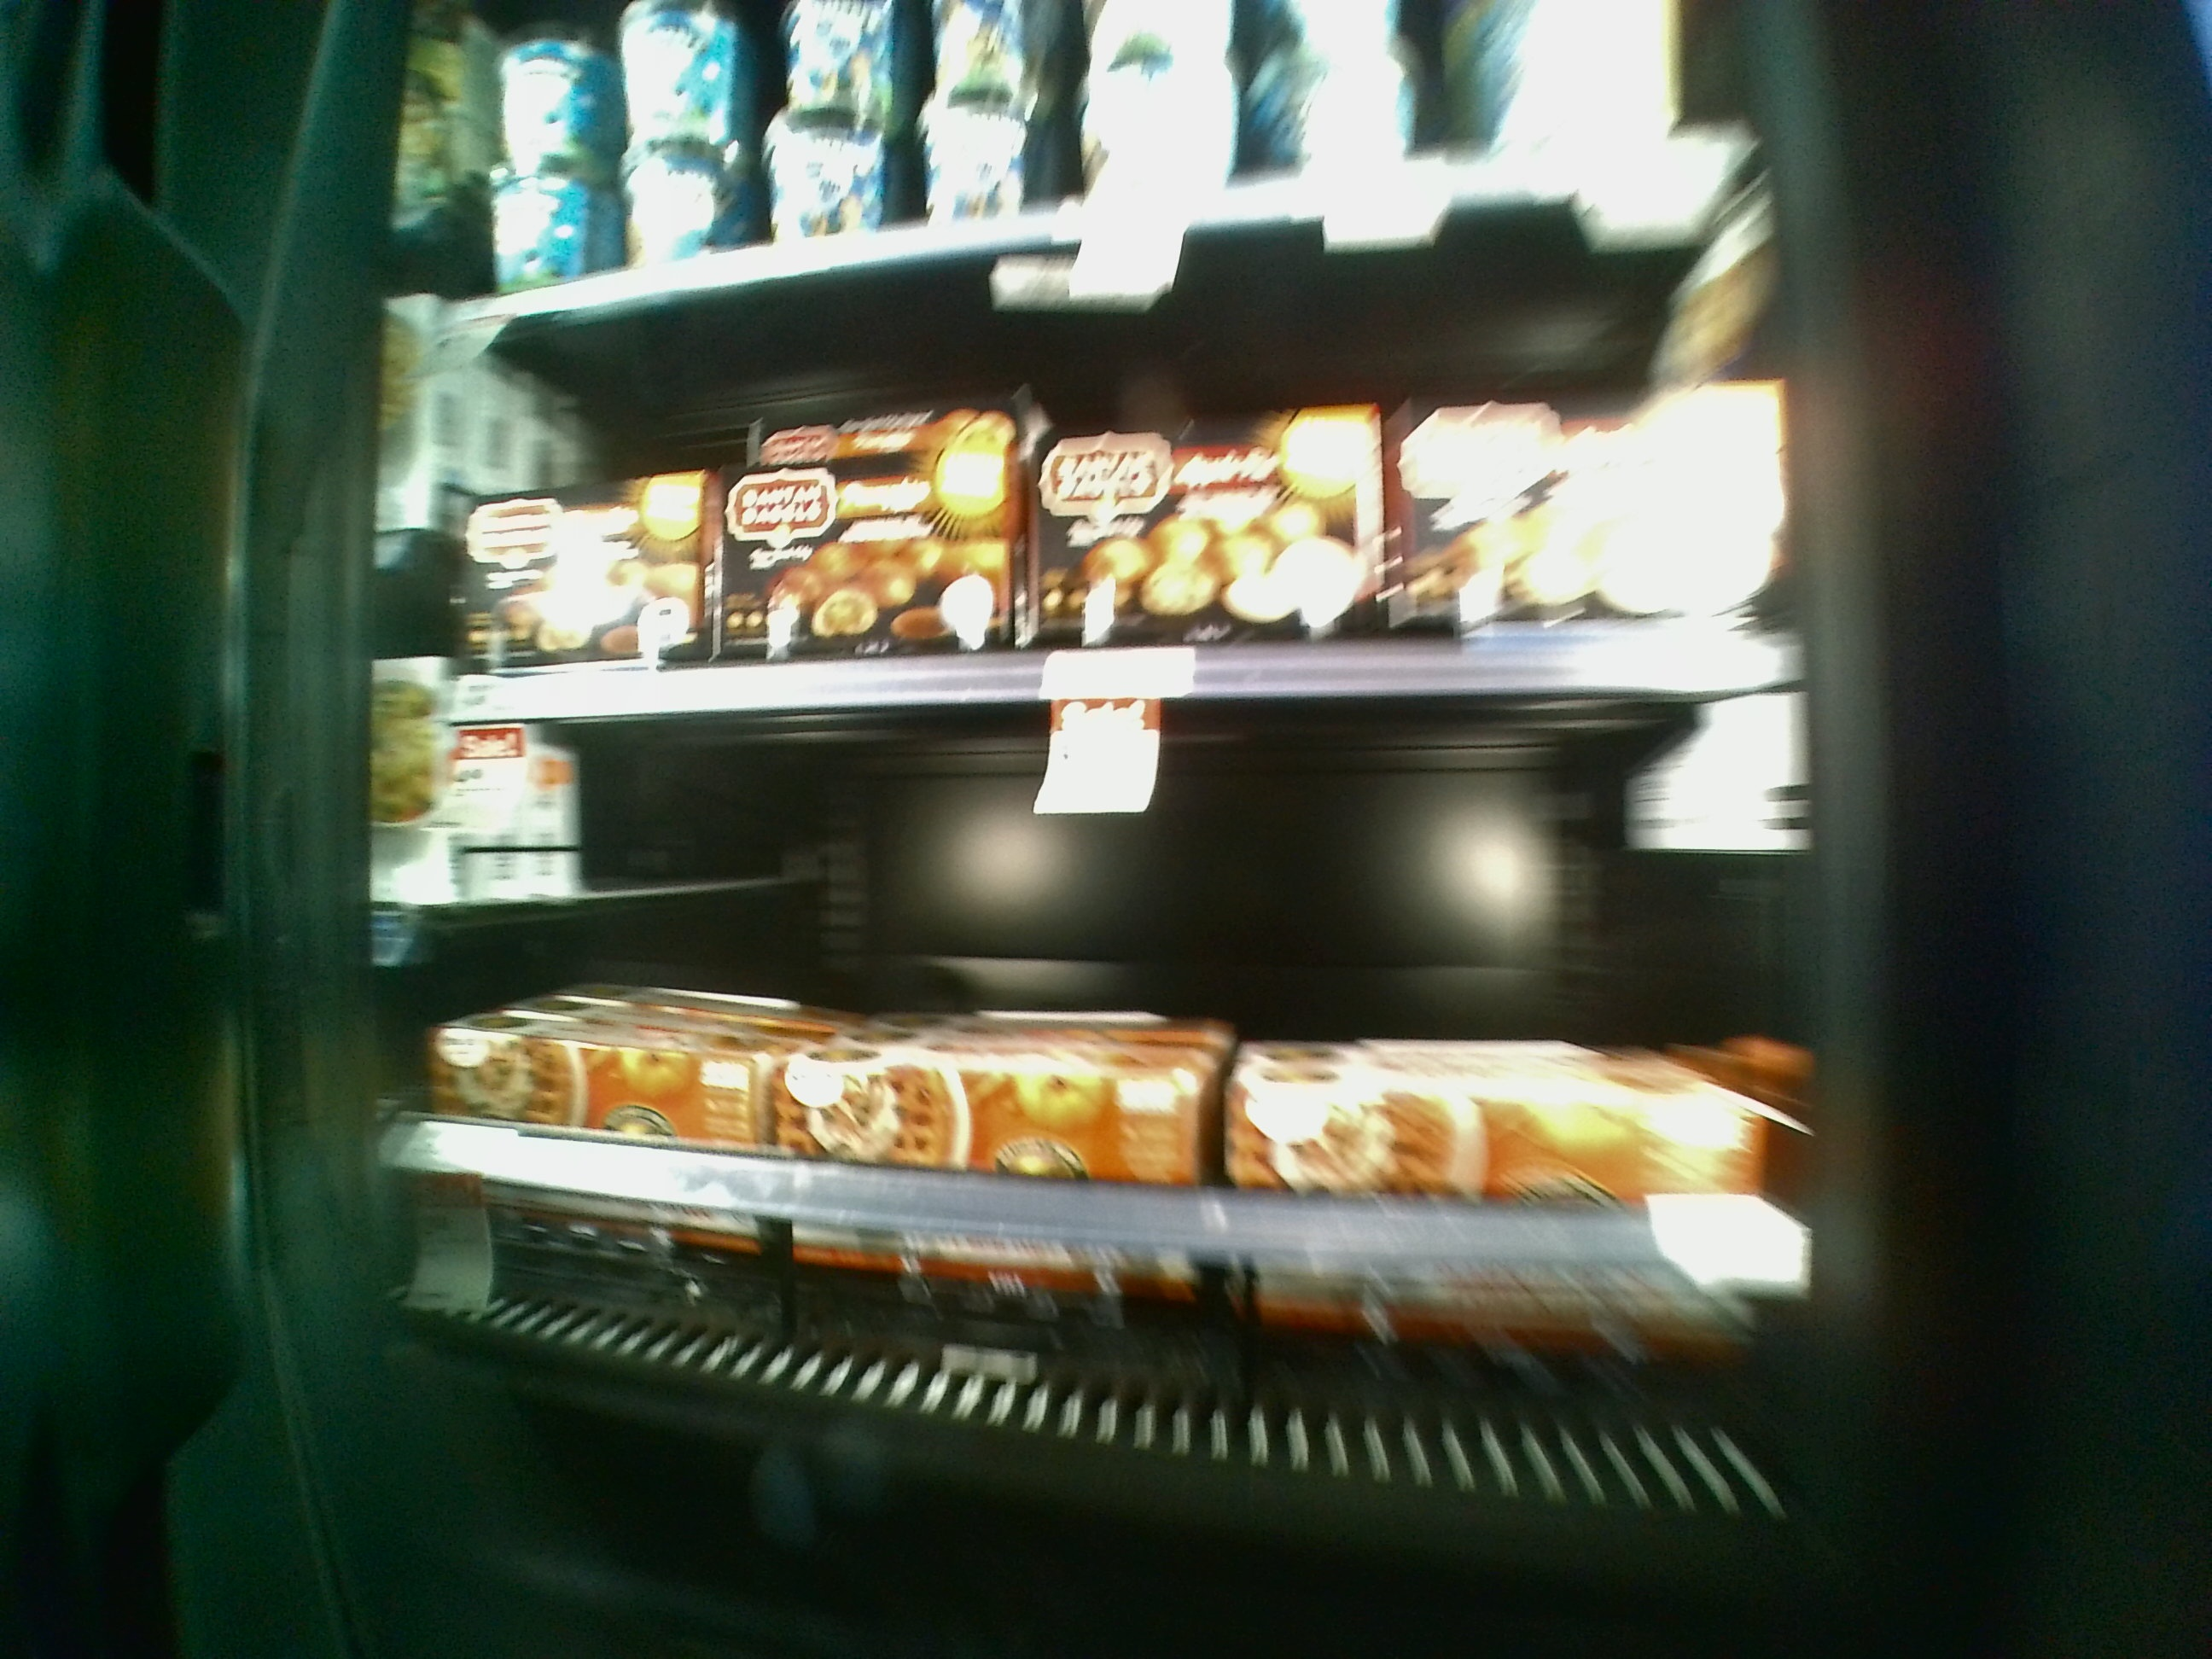shelf: (415, 708, 1844, 1540), (427, 274, 1815, 716)
